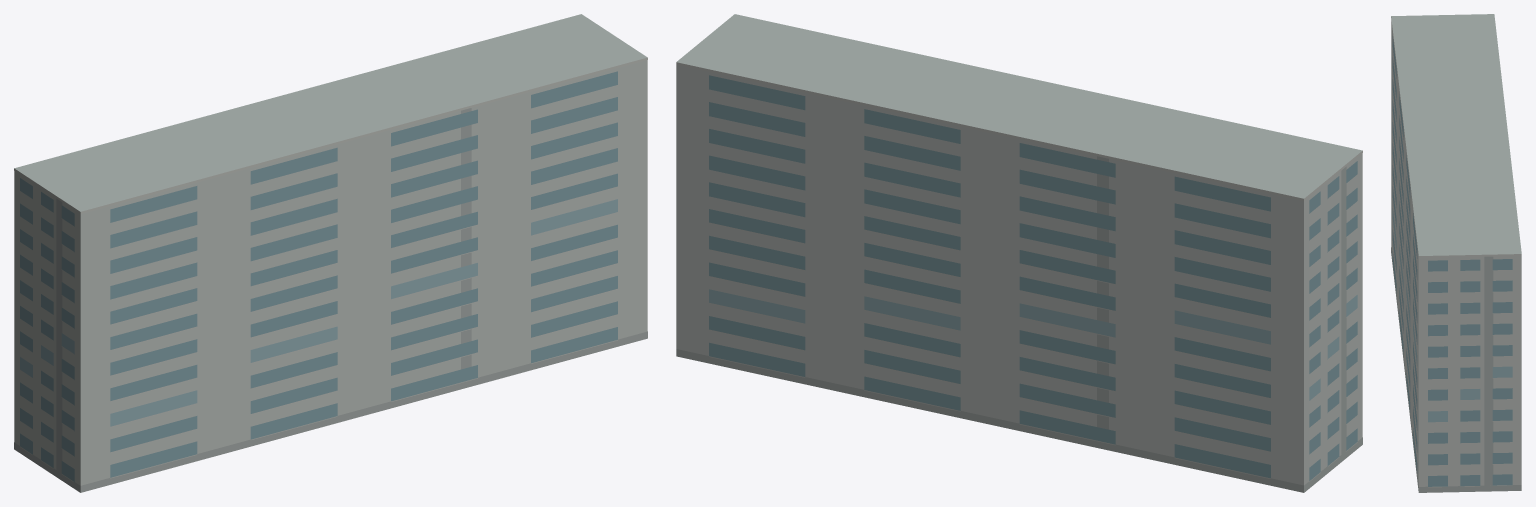
File: residential-3e747c9f-ae9d-468c-a7ab-c72ac0d3fae7.glb
The picture shows the model from 3 angles, left to right: view 1: azimuth 30°, elevation 25°; view 2: azimuth 150°, elevation 25°; view 3: azimuth 270°, elevation 25°; orthographic projection. The views are drawn at different scales.
Visible parts, largest first — view 1: residential-3e747c9f-ae9d-468c-a7ab-c72ac0d3fae7.tmp; view 2: residential-3e747c9f-ae9d-468c-a7ab-c72ac0d3fae7.tmp; view 3: residential-3e747c9f-ae9d-468c-a7ab-c72ac0d3fae7.tmp.
Part boxes in pixels (<box>): residential-3e747c9f-ae9d-468c-a7ab-c72ac0d3fae7.tmp: <box>14,14,647,492</box>; residential-3e747c9f-ae9d-468c-a7ab-c72ac0d3fae7.tmp: <box>676,14,1362,492</box>; residential-3e747c9f-ae9d-468c-a7ab-c72ac0d3fae7.tmp: <box>1391,14,1521,492</box>.
Bounding box in the file's own units: 63.58 × 29 × 14.51.
